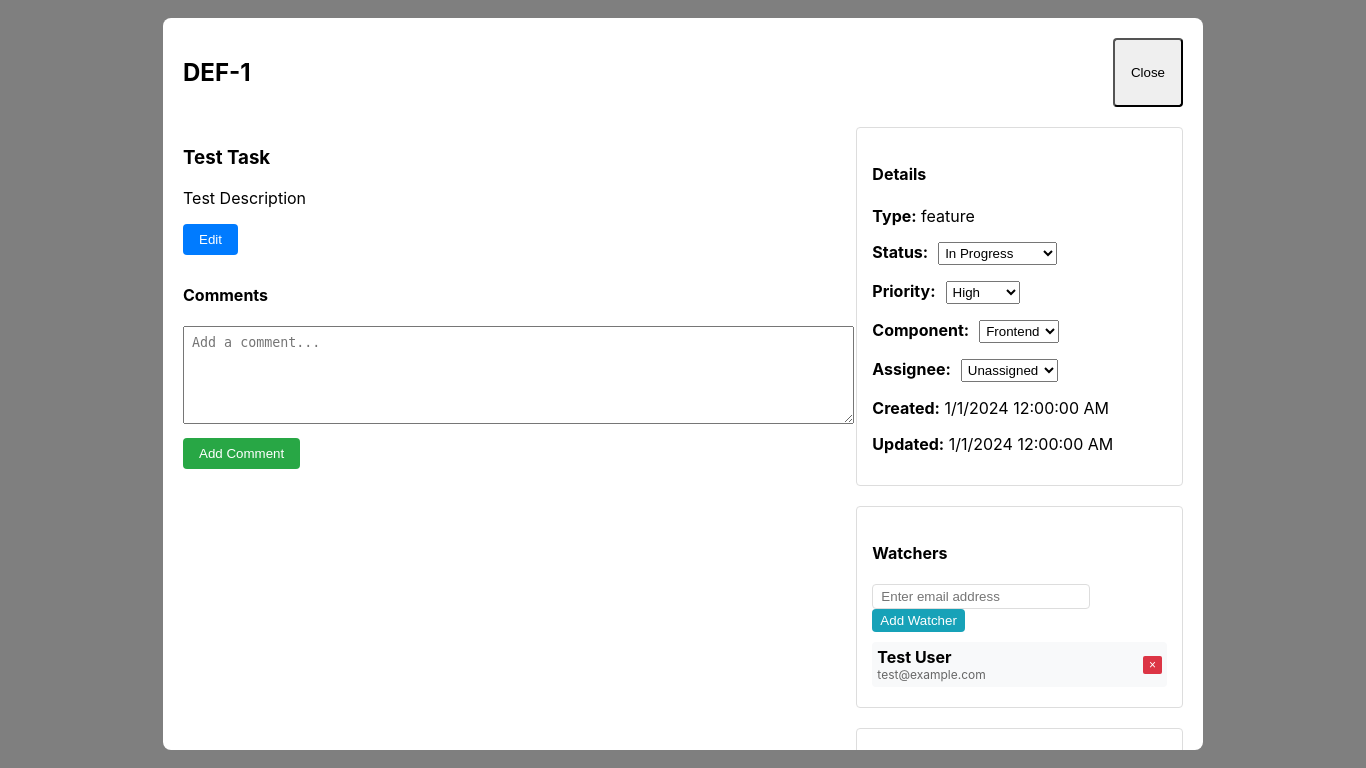
Scenario: TaskDetail Component › shows error for empty email
The width and height of the screenshot is (1366, 768).
Click the button "Add Watcher": (919, 621) [872, 609, 965, 632]
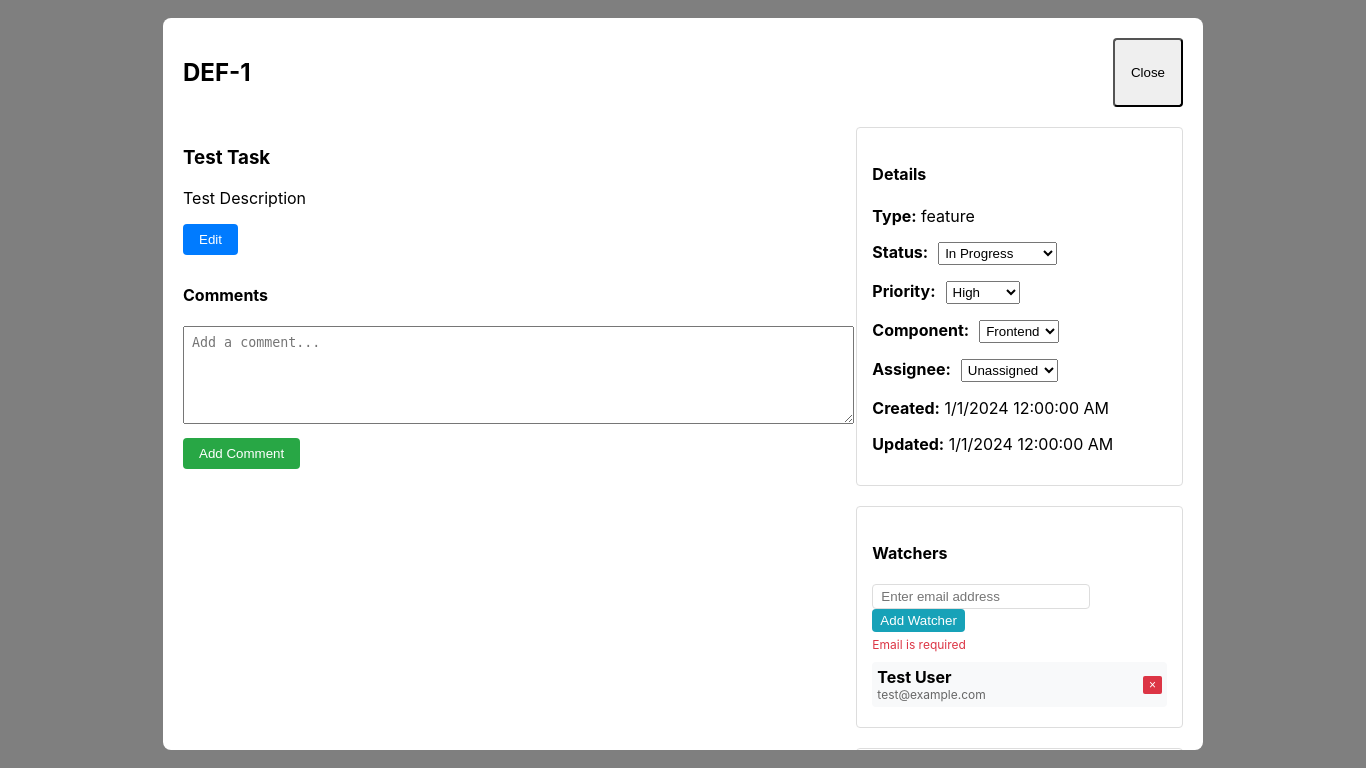
expect the text "Email is required" is shown: met, box [872, 637, 966, 652]
